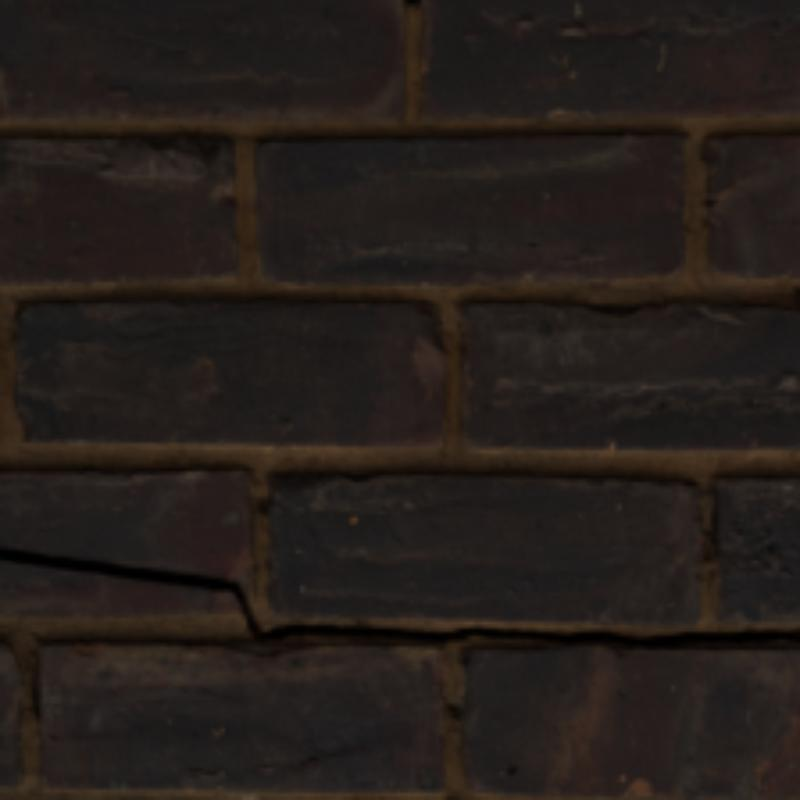pothole: (0, 546, 796, 646)
